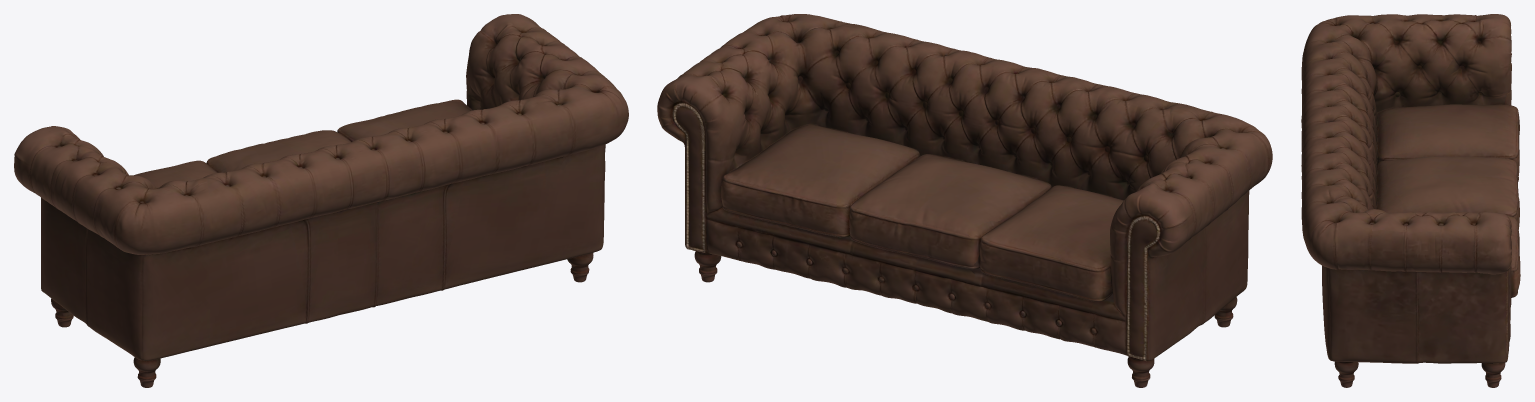
The model's file is canape-chesterfield-compressed.glb.
The picture shows the model from 3 angles, left to right: view 1: azimuth 30°, elevation 25°; view 2: azimuth 150°, elevation 25°; view 3: azimuth 270°, elevation 25°; orthographic projection. The views are drawn at different scales.
Visible parts, largest first — view 1: tripo_node_6057f989-a9d5-42e0-8e09-d99318a2dae2; view 2: tripo_node_6057f989-a9d5-42e0-8e09-d99318a2dae2; view 3: tripo_node_6057f989-a9d5-42e0-8e09-d99318a2dae2.
Boxes of the visible parts, box(x1,y1,x2,y2) form: tripo_node_6057f989-a9d5-42e0-8e09-d99318a2dae2: box(14, 14, 628, 387); tripo_node_6057f989-a9d5-42e0-8e09-d99318a2dae2: box(657, 14, 1272, 387); tripo_node_6057f989-a9d5-42e0-8e09-d99318a2dae2: box(1301, 14, 1520, 387).
Bounding box in the file's own units: 32767 × 11921 × 13397.
1 material, 1 textured.
